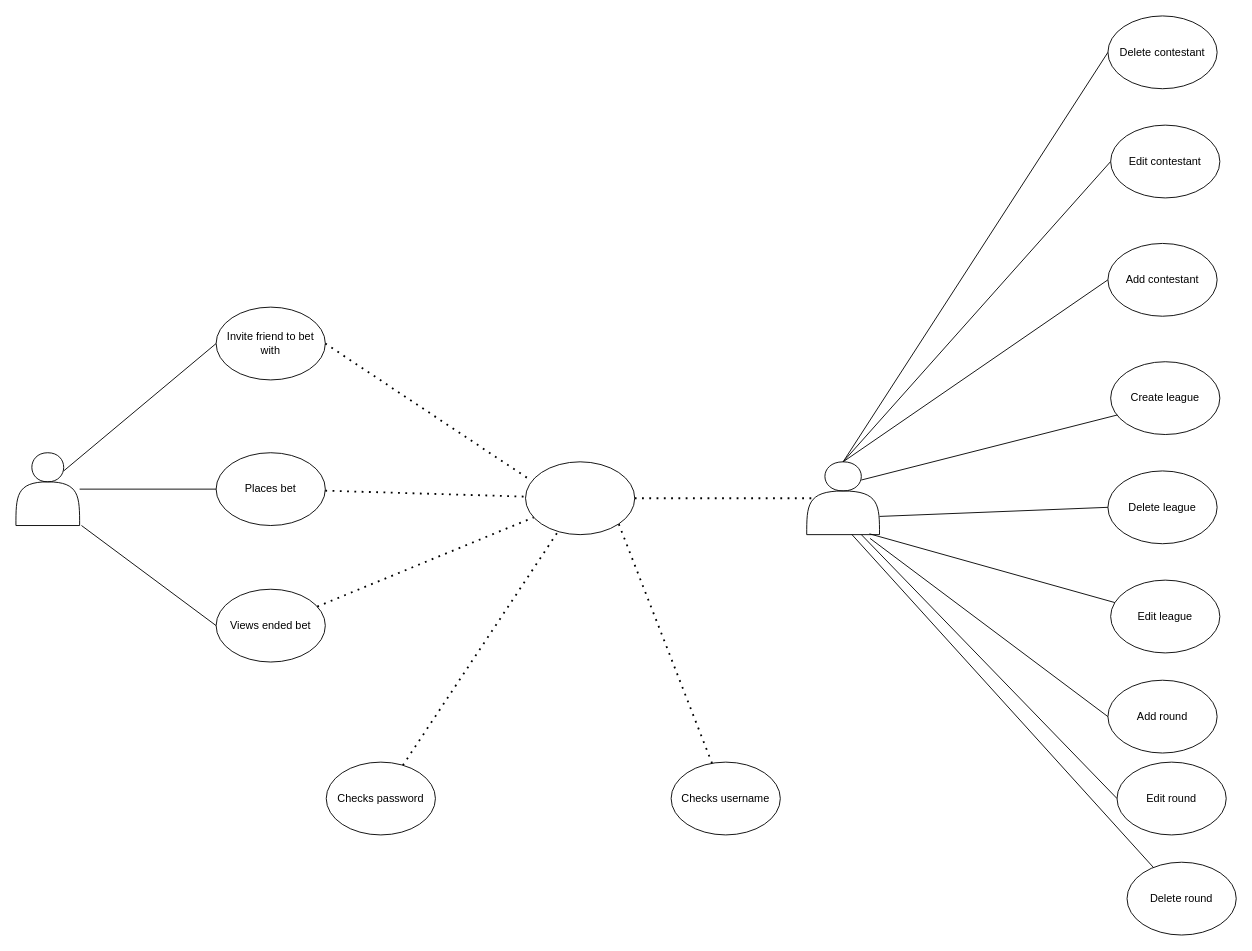
Image size: 1252x951. Some labels were removed from this diagram. Each missing label, with the box of its shape:
Admin: (806, 461, 880, 535)
Login: (525, 461, 635, 535)
User: (15, 452, 80, 526)
